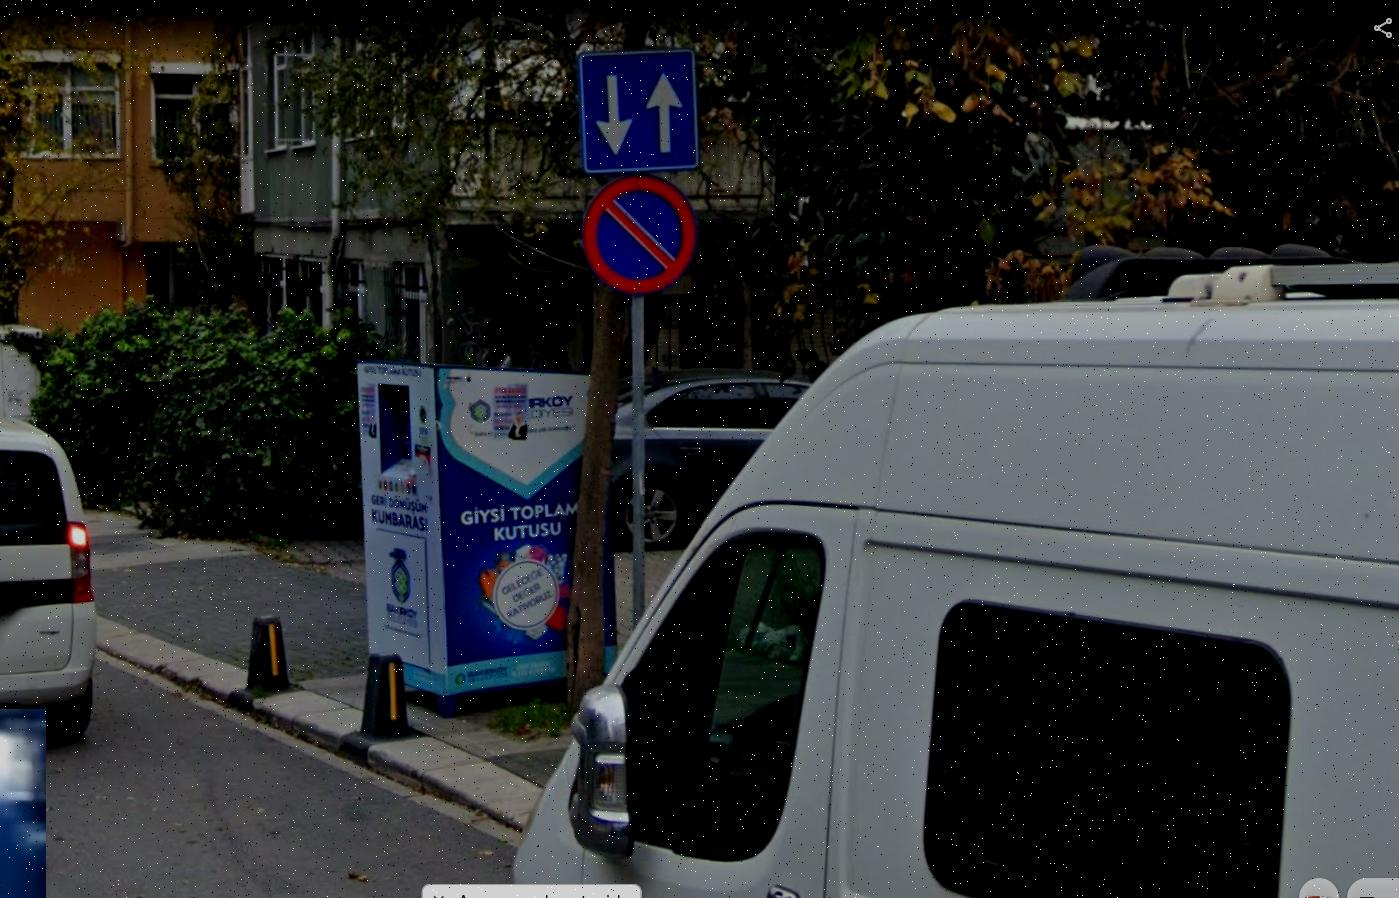nopark: (577, 176, 699, 292)
